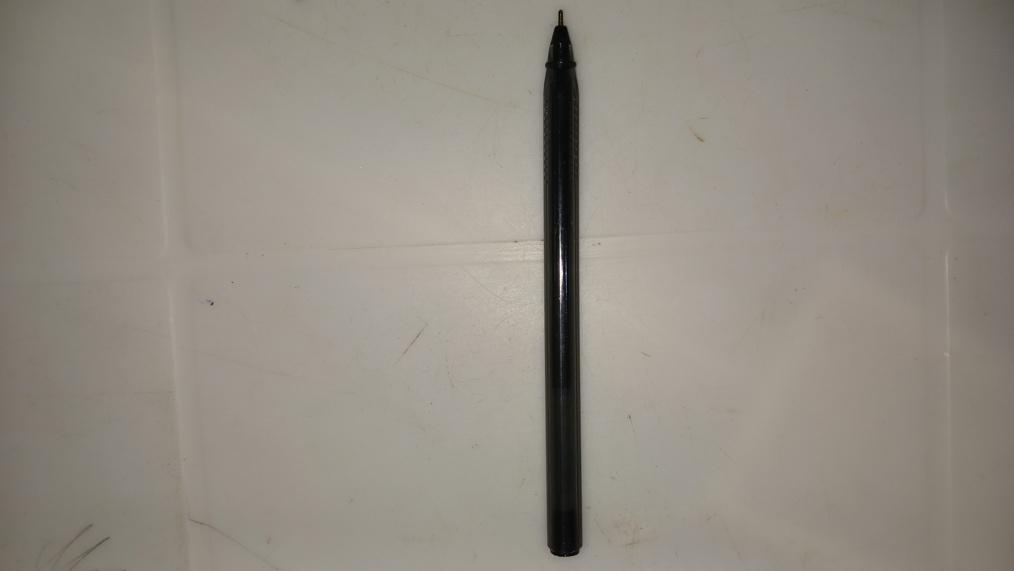pen: (544, 5, 581, 560)
